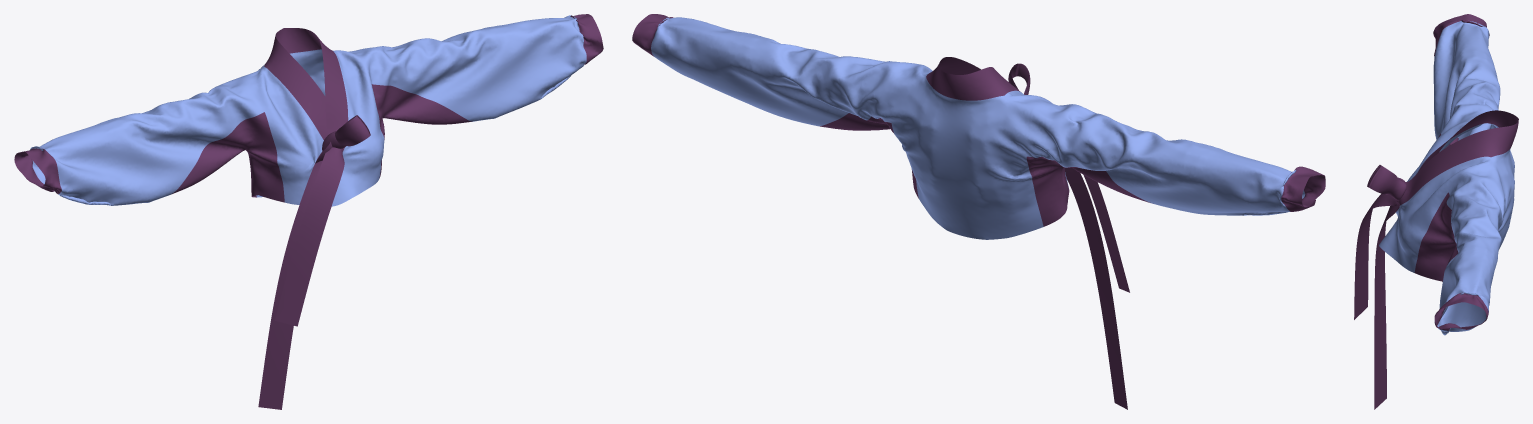
Rendered from traditonal korean dress.fbx.
The picture shows the model from 3 angles, left to right: view 1: azimuth 30°, elevation 25°; view 2: azimuth 150°, elevation 25°; view 3: azimuth 270°, elevation 25°; orthographic projection. The views are drawn at different scales.
Parts seen in each view (by area): view 1: traditonal korean dress; view 2: traditonal korean dress; view 3: traditonal korean dress.
Boxes of the visible parts, x1,y1,x2,y2 form: traditonal korean dress: (14, 14, 603, 409); traditonal korean dress: (632, 14, 1325, 409); traditonal korean dress: (1354, 14, 1518, 409).
Size of the model in its own units: 1397 by 734 by 335.
